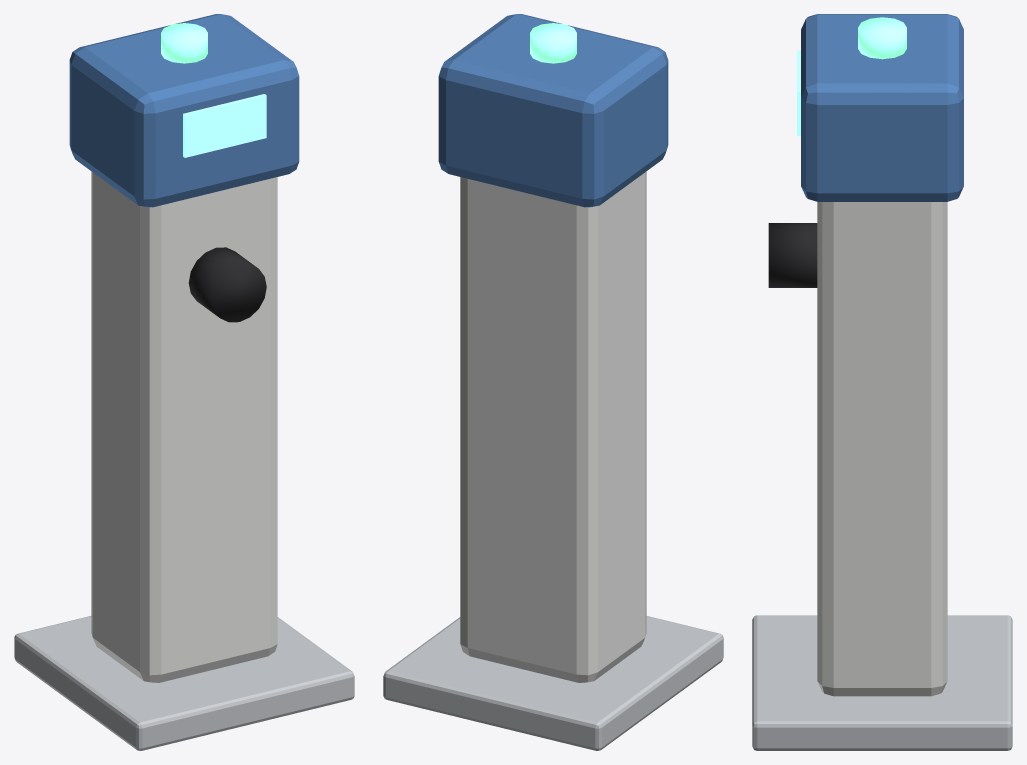
The model's file is charging-post.glb.
The picture shows the model from 3 angles, left to right: view 1: azimuth 30°, elevation 25°; view 2: azimuth 150°, elevation 25°; view 3: azimuth 270°, elevation 25°; orthographic projection. The views are drawn at different scales.
Visible parts, largest first — view 1: pedestal, head, pedestal_base, holster, screen, lamp; view 2: pedestal, head, pedestal_base, lamp; view 3: pedestal, head, pedestal_base, holster, lamp.
Boxes of the visible parts, x1,y1,x2,y2 form: pedestal: [91, 171, 277, 682]; head: [69, 14, 299, 207]; pedestal_base: [14, 616, 354, 750]; holster: [188, 247, 266, 322]; screen: [183, 94, 266, 157]; lamp: [161, 23, 207, 63]; pedestal: [460, 171, 646, 682]; head: [438, 14, 668, 207]; pedestal_base: [383, 616, 723, 750]; lamp: [530, 23, 576, 63]; pedestal: [817, 202, 947, 696]; head: [801, 14, 963, 201]; pedestal_base: [752, 615, 1012, 750]; holster: [768, 223, 817, 287]; lamp: [858, 17, 906, 59].
Bounding box in the file's own units: 0.16 × 0.4545 × 0.16.
